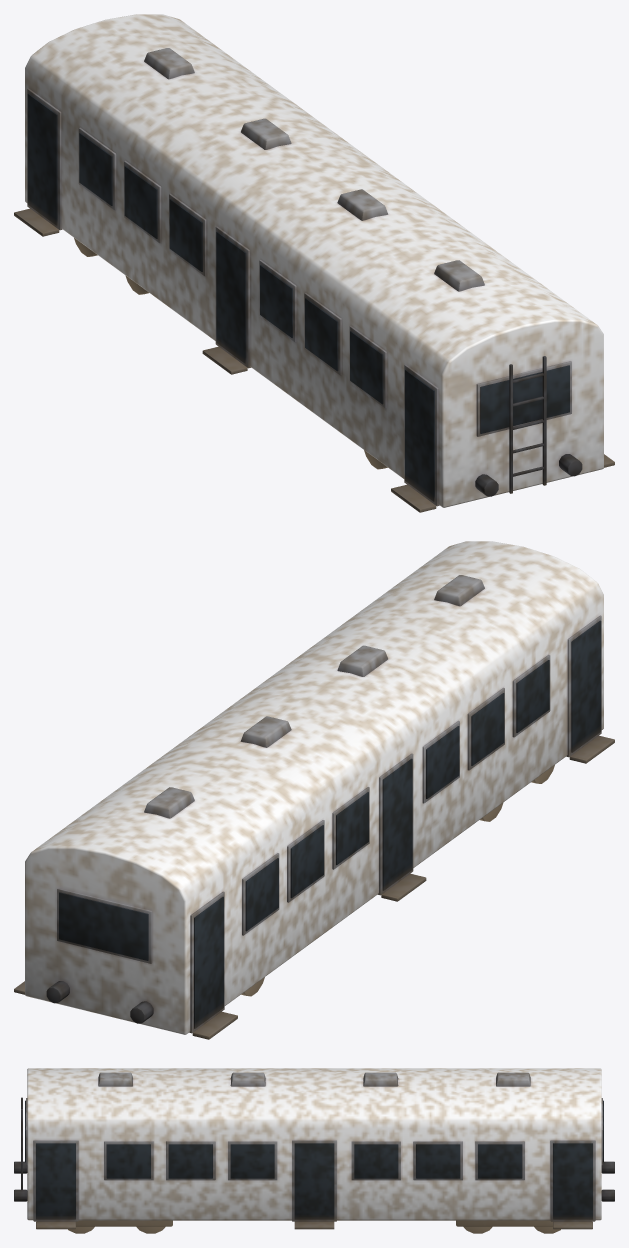
The model's file is train_carriage.glb.
The picture shows the model from 3 angles, top to bottom: view 1: azimuth 30°, elevation 25°; view 2: azimuth 150°, elevation 25°; view 3: azimuth 270°, elevation 25°; orthographic projection. The views are drawn at different scales.
Visible parts, largest first — view 1: TrainCarriage; view 2: TrainCarriage; view 3: TrainCarriage.
Part boxes in pixels (bbox=[...]): TrainCarriage: bbox=[14, 14, 614, 512]; TrainCarriage: bbox=[14, 541, 614, 1039]; TrainCarriage: bbox=[14, 1068, 614, 1233].
Bounding box in the file's own units: 3.5 × 3.45 × 13.6.
2 materials, 2 textured.
